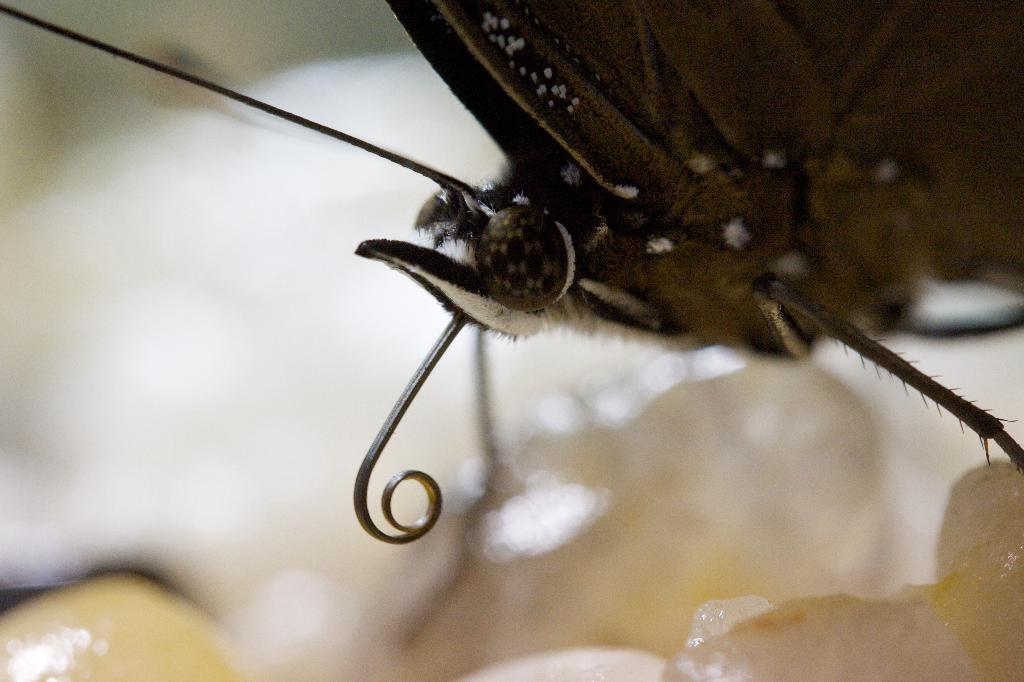Butterfly: (343, 1, 1024, 446)
